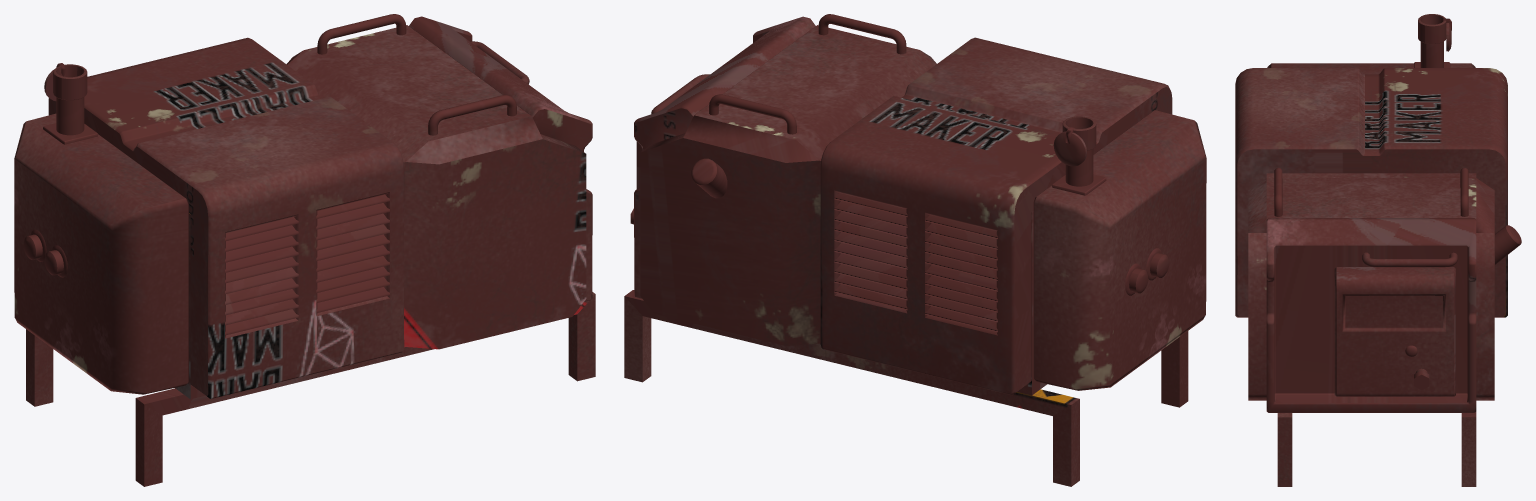
File: CS_generator.FBX
3 views of the same model, side by side, from view 1: azimuth 30°, elevation 25°; view 2: azimuth 150°, elevation 25°; view 3: azimuth 270°, elevation 25° (orthographic). The views are drawn at different scales.
Parts seen in each view (by area): view 1: SM_generator; view 2: SM_generator; view 3: SM_generator.
Boxes of the visible parts, box(x1,y1,x2,y2) form: SM_generator: box(14, 14, 595, 486); SM_generator: box(624, 14, 1206, 486); SM_generator: box(1235, 14, 1521, 486).
Bounding box in the file's own units: 136 × 78.77 × 87.83.
